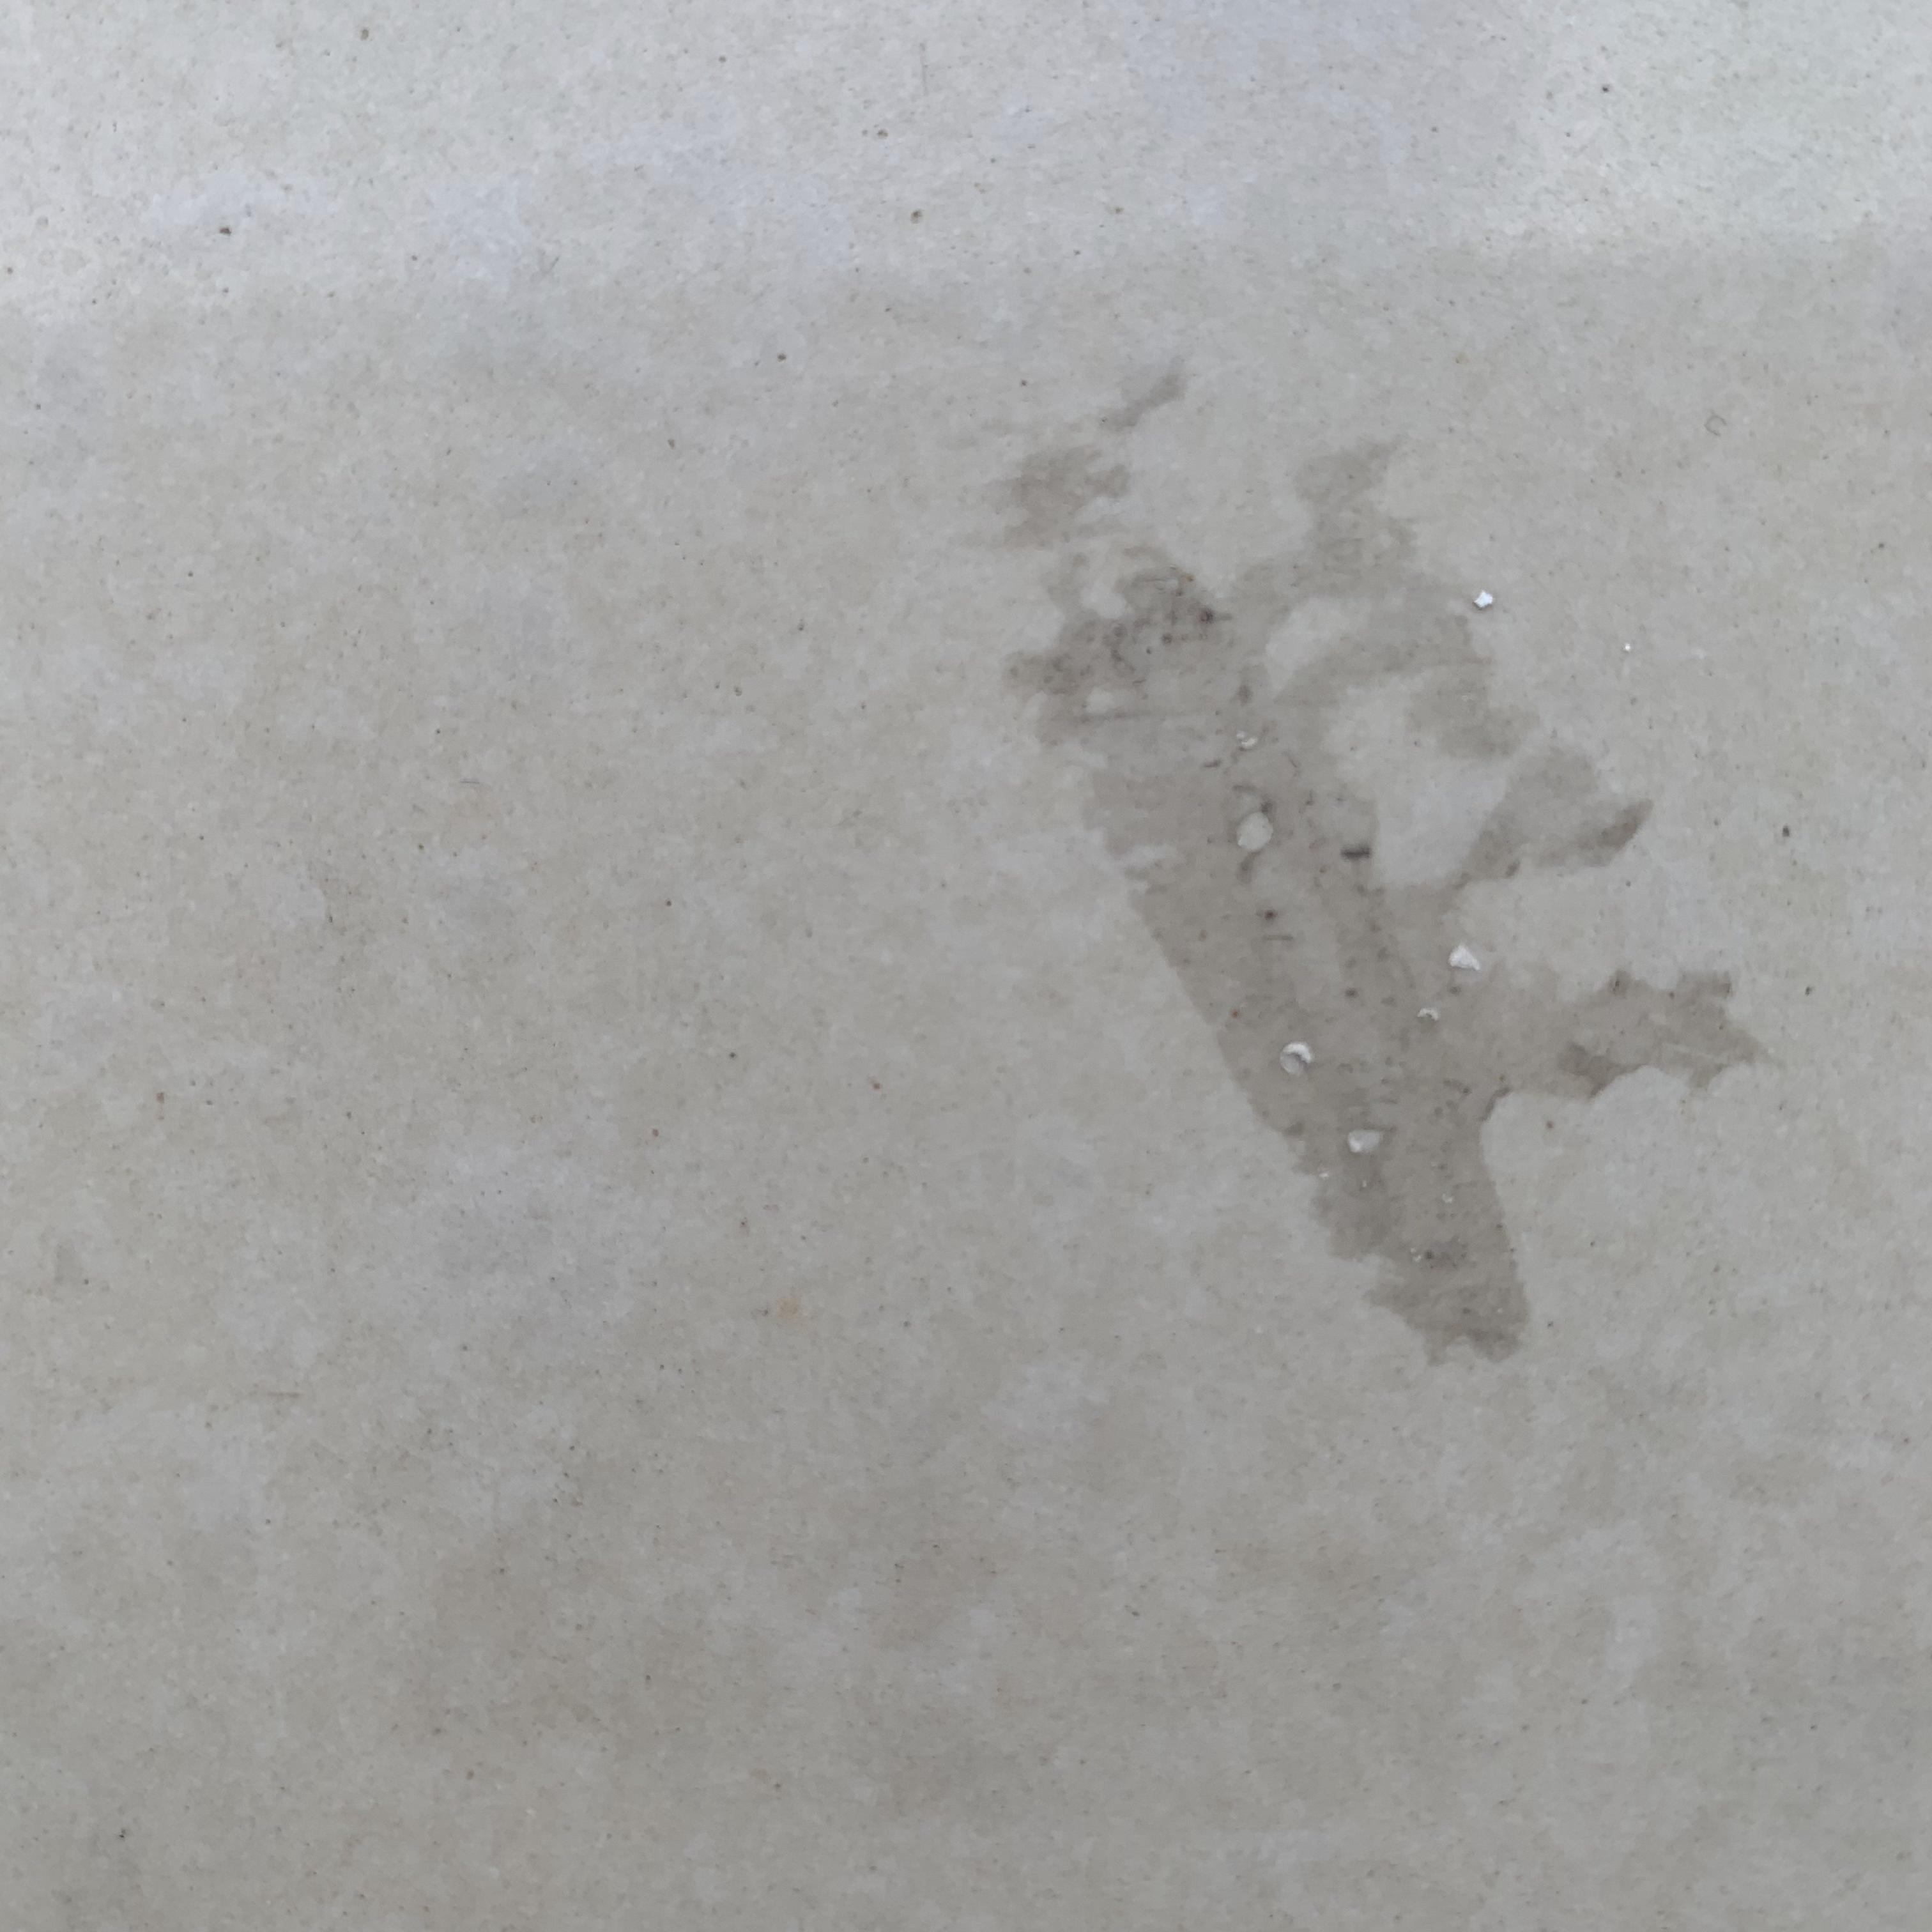grey spot: (982, 368, 1764, 1359)
